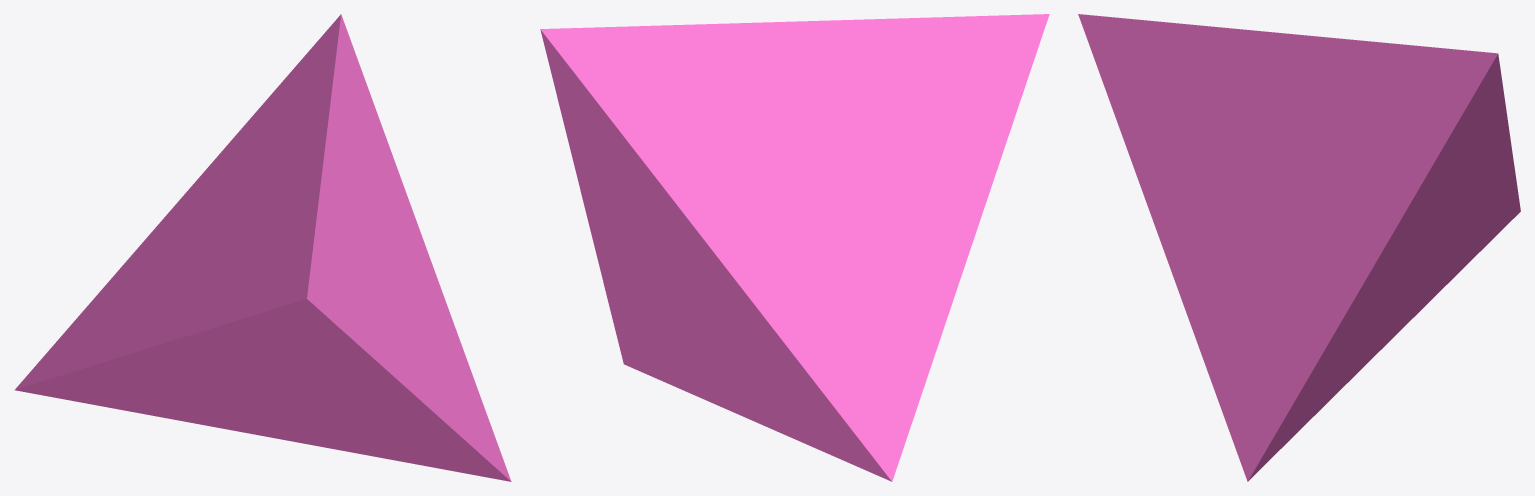
File: InfoObras_EjercicioPlastico.gltf
3 views of the same model, side by side, from view 1: azimuth 30°, elevation 25°; view 2: azimuth 150°, elevation 25°; view 3: azimuth 270°, elevation 25° (orthographic). The views are drawn at different scales.
Visible parts, largest first — view 1: InfoObras_EjercicioPlastico; view 2: InfoObras_EjercicioPlastico; view 3: InfoObras_EjercicioPlastico.
Part boxes in pixels (x1,y1,x2,y2): InfoObras_EjercicioPlastico: (14, 14, 511, 481); InfoObras_EjercicioPlastico: (540, 14, 1049, 481); InfoObras_EjercicioPlastico: (1078, 14, 1520, 481).
Size of the model in its own units: 0.2061 by 0.2111 by 0.2098.
